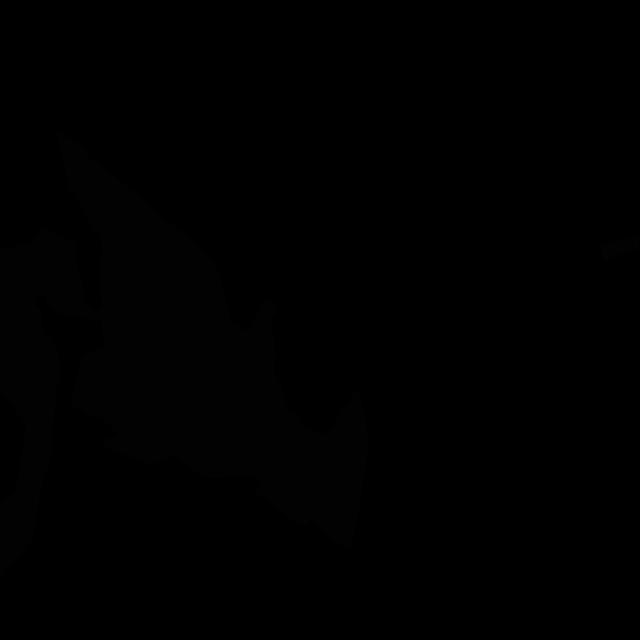cardboard: (56, 130, 291, 486), (0, 228, 102, 493), (254, 391, 368, 548), (0, 487, 41, 579), (599, 235, 640, 261)
